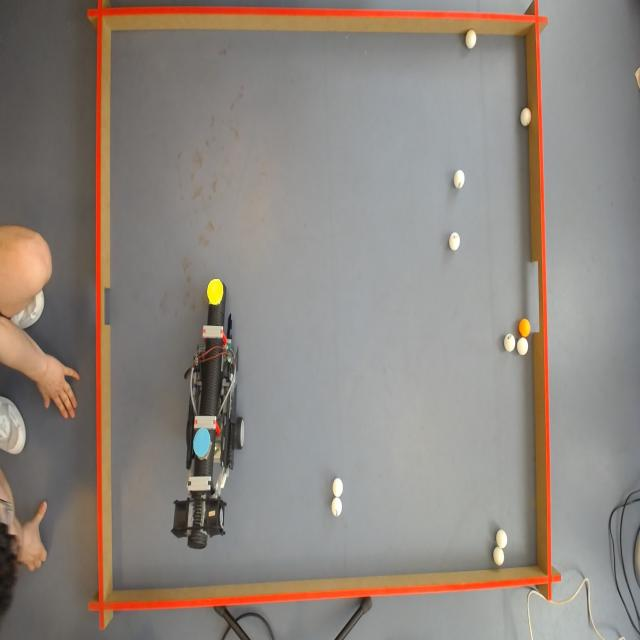orange: (518, 316, 531, 334)
robot: (177, 297, 242, 544)
robot-front: (206, 278, 224, 304)
white: (193, 426, 210, 457), (465, 29, 481, 48), (452, 168, 466, 188), (518, 106, 530, 128), (498, 530, 511, 550), (494, 546, 506, 567), (516, 336, 528, 356), (449, 232, 462, 250), (332, 498, 344, 516), (504, 333, 515, 352), (332, 478, 343, 496)
